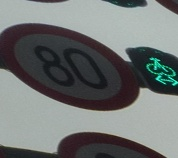Speed limit: (1, 20, 135, 119)
